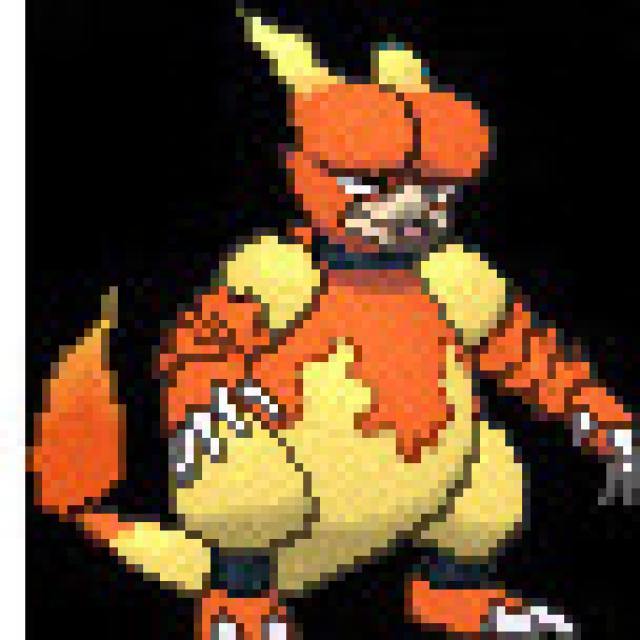Magmar: (149, 11, 539, 632)
